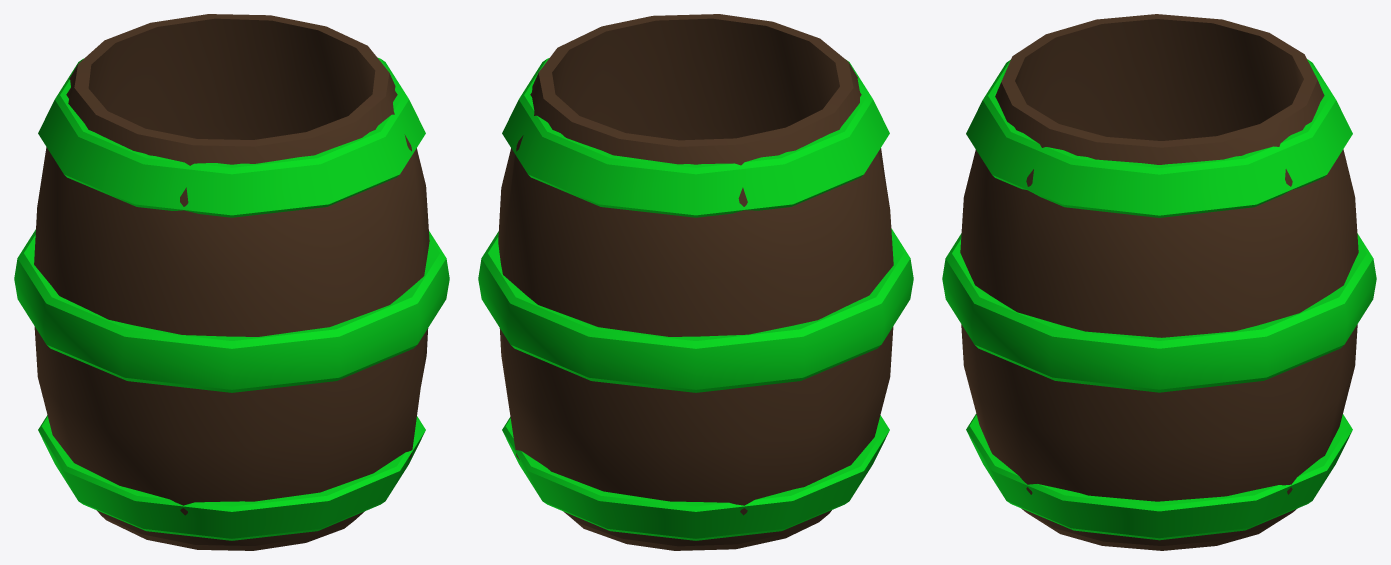
File: Tambor.fbx
3 views of the same model, side by side, from view 1: azimuth 30°, elevation 25°; view 2: azimuth 150°, elevation 25°; view 3: azimuth 270°, elevation 25° (orthographic).
Visible parts, largest first — view 1: Tambor_low; view 2: Tambor_low; view 3: Tambor_low.
Boxes of the visible parts, left/top/right/bottom form: Tambor_low: left=14, top=14, right=449, bottom=550; Tambor_low: left=478, top=14, right=913, bottom=550; Tambor_low: left=942, top=14, right=1376, bottom=550.
Size of the model in its own units: 80.43 by 83.82 by 80.43.
